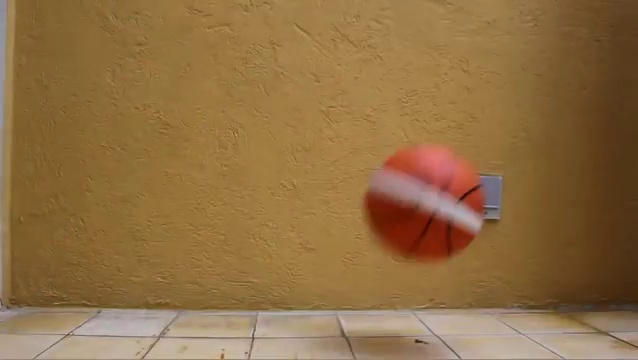ball: (364, 145, 486, 262)
